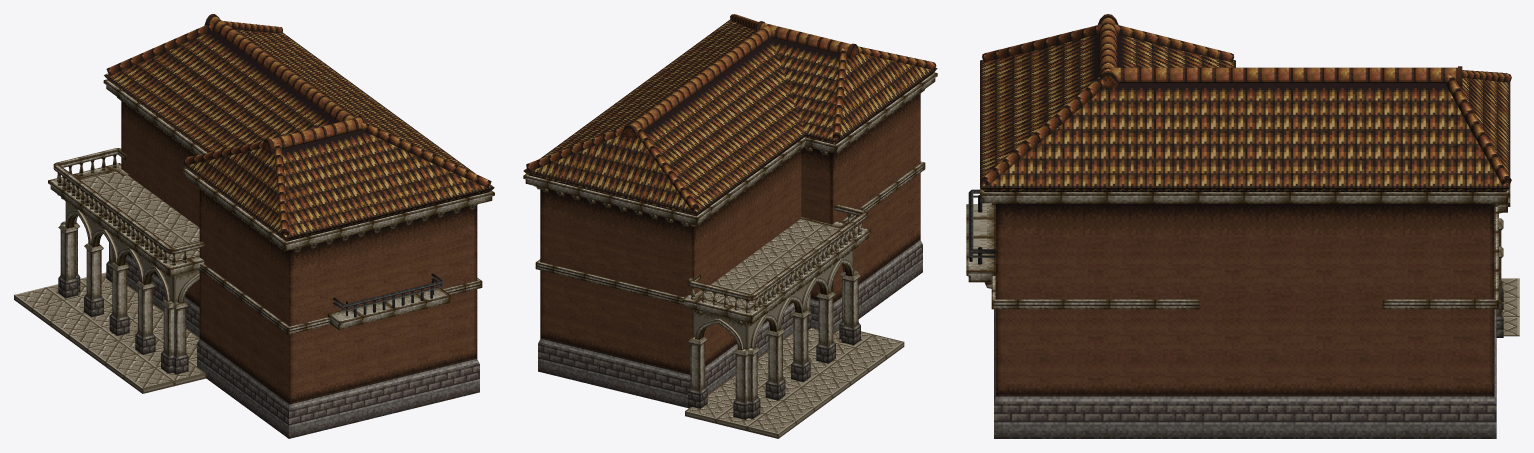
Rendered from EnvBdgMD_Sea_A_Outdoor_Inn_A.FBX.
3 views of the same model, side by side, from view 1: azimuth 30°, elevation 25°; view 2: azimuth 150°, elevation 25°; view 3: azimuth 270°, elevation 25° (orthographic). The views are drawn at different scales.
Parts seen in each view (by area): view 1: EnvBdgMD_Sea_A_Outdoor_Inn_A; view 2: EnvBdgMD_Sea_A_Outdoor_Inn_A; view 3: EnvBdgMD_Sea_A_Outdoor_Inn_A.
Part boxes in pixels (box(x1,y1,x2,y2)): EnvBdgMD_Sea_A_Outdoor_Inn_A: box(14, 14, 494, 438); EnvBdgMD_Sea_A_Outdoor_Inn_A: box(523, 14, 937, 438); EnvBdgMD_Sea_A_Outdoor_Inn_A: box(966, 14, 1519, 438).
Size of the model in its own units: 830 by 781 by 1210.
2 materials, 2 textured.
